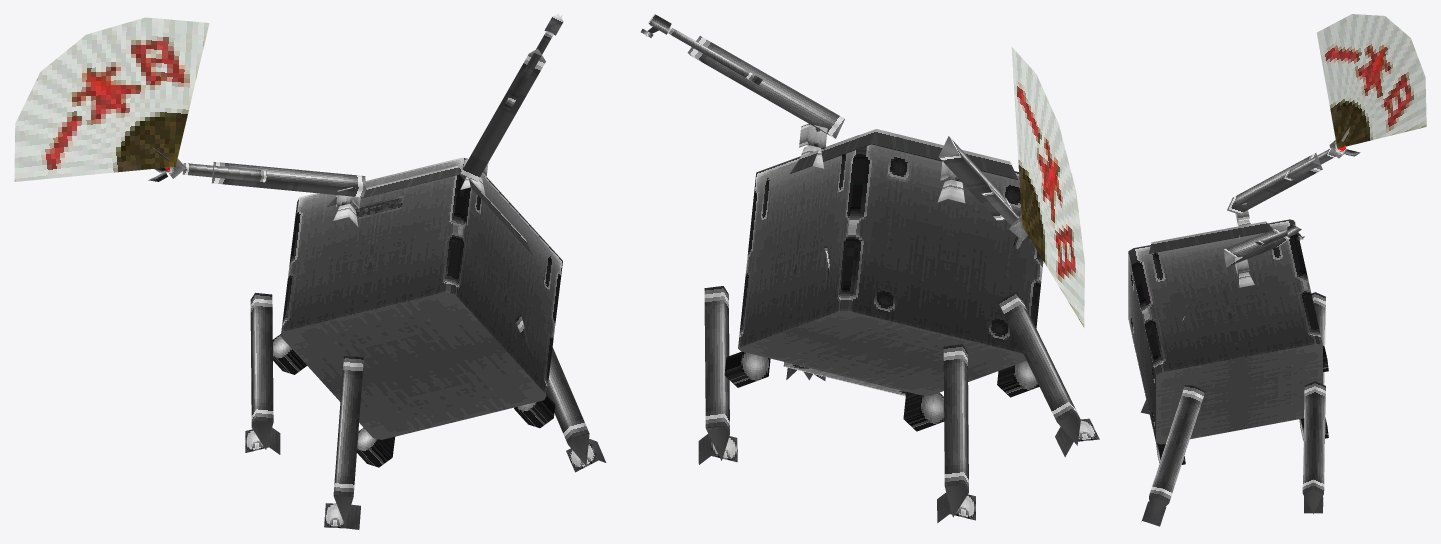
The model's file is ps2_save-icons_ghostintheshellsac.glb.
3 views of the same model, side by side, from view 1: azimuth 30°, elevation 25°; view 2: azimuth 150°, elevation 25°; view 3: azimuth 270°, elevation 25° (orthographic). The views are drawn at different scales.
Visible parts, largest first — view 1: icon.ico; view 2: icon.ico; view 3: icon.ico.
Boxes of the visible parts, x1,y1,x2,y2 form: icon.ico: (14, 14, 606, 529); icon.ico: (641, 14, 1099, 522); icon.ico: (1128, 14, 1426, 526).
Bounding box in the file's own units: 2.48 × 2.24 × 1.58.
1 material, 1 textured.
